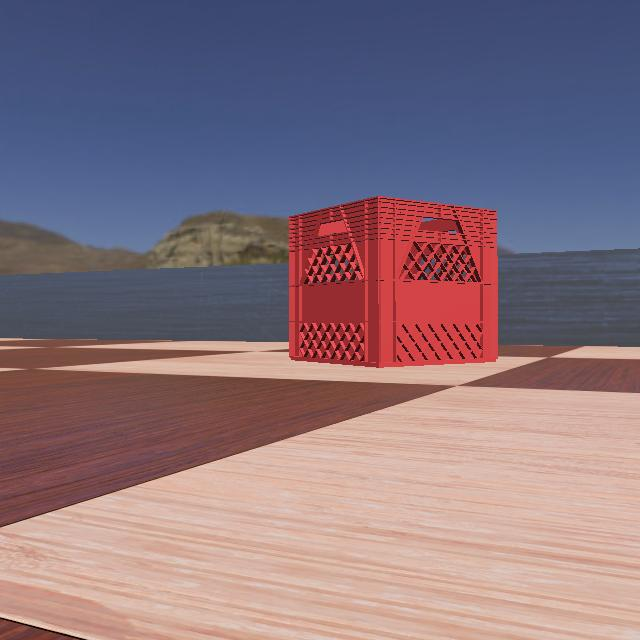plastic-crate: (282, 195, 520, 367)
